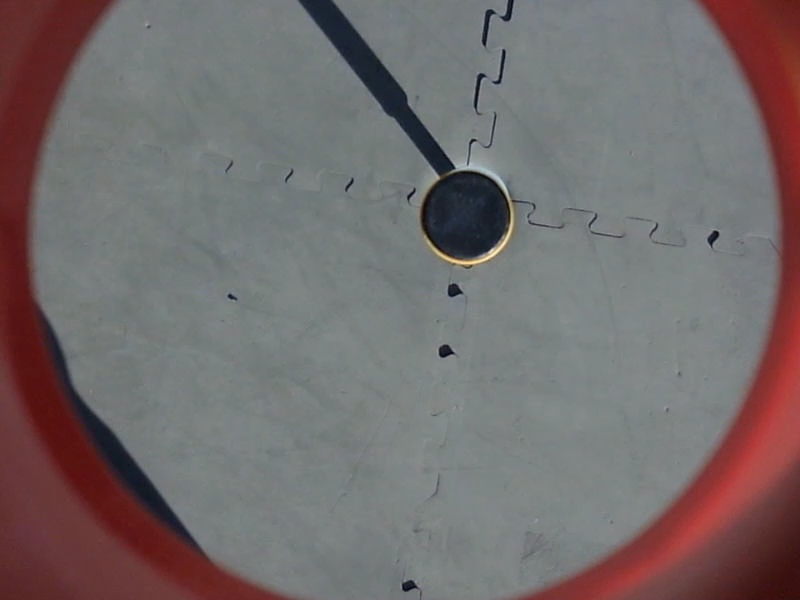tip: (414, 162, 517, 266)
